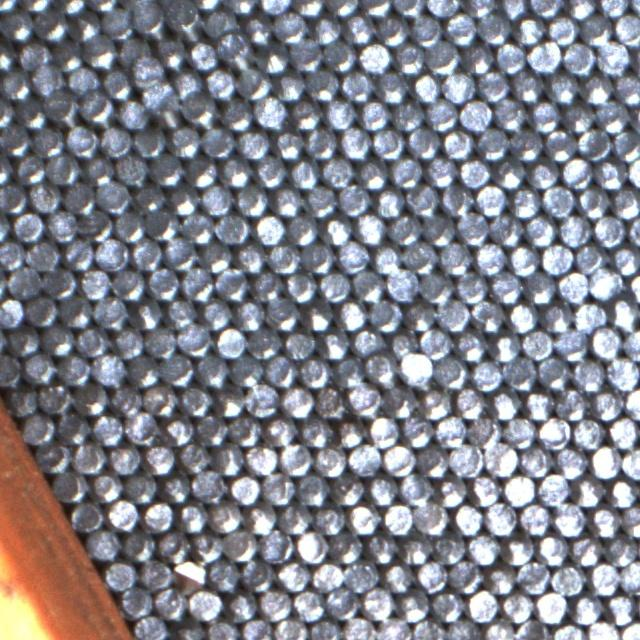tool: (325, 585, 360, 620), (200, 124, 235, 158), (415, 499, 449, 534), (453, 328, 488, 362), (264, 352, 298, 387), (125, 410, 160, 444), (110, 382, 144, 417), (343, 558, 378, 592), (91, 350, 125, 385), (56, 409, 90, 444), (484, 501, 518, 535), (518, 501, 552, 535), (75, 323, 109, 357), (304, 125, 338, 159), (126, 353, 160, 387), (362, 586, 396, 620), (406, 125, 440, 159), (106, 497, 140, 531), (537, 356, 571, 390), (150, 152, 184, 186), (34, 6, 68, 40), (329, 530, 363, 564), (178, 382, 212, 416), (330, 472, 364, 506), (382, 558, 416, 592), (537, 472, 571, 506), (281, 384, 315, 418), (228, 412, 262, 446), (24, 293, 58, 327), (437, 297, 471, 331), (224, 528, 258, 562), (431, 588, 465, 622), (229, 354, 263, 388), (258, 528, 292, 562), (143, 381, 177, 415), (74, 381, 108, 415), (571, 357, 605, 391), (0, 8, 34, 42), (244, 381, 278, 415), (444, 11, 478, 45), (144, 324, 178, 358), (192, 468, 226, 502), (58, 293, 92, 327), (484, 442, 518, 476), (241, 558, 275, 592), (603, 533, 637, 567), (93, 294, 127, 328), (52, 467, 86, 501), (97, 178, 131, 212), (448, 558, 482, 592), (385, 384, 419, 418), (296, 472, 330, 506), (80, 208, 114, 242), (168, 2, 202, 36), (419, 270, 454, 303), (295, 528, 328, 563), (182, 266, 215, 301), (214, 324, 247, 358), (278, 502, 312, 535), (553, 502, 586, 536), (416, 558, 449, 592), (339, 125, 372, 159), (237, 126, 270, 160), (228, 470, 261, 504), (490, 270, 523, 304), (554, 445, 587, 479), (65, 122, 98, 156), (57, 351, 90, 385), (292, 587, 325, 621), (441, 182, 474, 216), (390, 154, 423, 188), (365, 530, 398, 564), (391, 97, 424, 131), (455, 270, 488, 304), (418, 325, 452, 358), (520, 444, 553, 478), (6, 322, 39, 356), (235, 182, 269, 215), (365, 472, 398, 506), (468, 472, 501, 506), (545, 70, 578, 104), (89, 469, 123, 502), (433, 530, 466, 564), (262, 470, 295, 504), (458, 155, 492, 188), (38, 380, 72, 413), (254, 154, 288, 187), (435, 355, 468, 389), (314, 442, 347, 476), (595, 41, 629, 74), (562, 41, 596, 74), (263, 414, 297, 447), (164, 234, 197, 268), (200, 182, 234, 215), (90, 412, 124, 445), (527, 39, 561, 72), (570, 533, 603, 567), (356, 156, 389, 190), (607, 296, 640, 330), (475, 126, 508, 160), (100, 66, 133, 100), (167, 123, 200, 157), (457, 210, 490, 244), (198, 296, 232, 329), (400, 351, 433, 385), (556, 387, 590, 420), (439, 240, 472, 274), (159, 470, 192, 504), (502, 356, 536, 389), (112, 266, 146, 299), (250, 268, 283, 302), (535, 589, 569, 622), (606, 415, 640, 448), (218, 97, 252, 130), (375, 12, 408, 46), (321, 154, 354, 188), (417, 442, 450, 476), (219, 154, 252, 188), (400, 414, 434, 447), (552, 561, 585, 595), (347, 501, 380, 535), (280, 441, 313, 475), (450, 442, 483, 476), (46, 91, 79, 125), (107, 440, 140, 474), (71, 499, 105, 532), (204, 7, 238, 40), (382, 442, 416, 475), (72, 440, 106, 473), (472, 300, 505, 334), (348, 382, 381, 416), (45, 208, 78, 242), (409, 12, 442, 46), (44, 264, 77, 298), (21, 410, 54, 444), (196, 352, 228, 387), (382, 501, 415, 534), (340, 68, 373, 101), (442, 69, 475, 102), (23, 350, 56, 383), (579, 71, 612, 104), (338, 182, 371, 215), (555, 327, 588, 360), (283, 326, 316, 359), (259, 586, 292, 619), (255, 95, 288, 128), (266, 296, 299, 329), (358, 41, 391, 74), (477, 68, 510, 101), (606, 357, 639, 390), (216, 210, 249, 243), (115, 152, 148, 185), (368, 297, 401, 330), (179, 322, 212, 355), (311, 558, 344, 591), (140, 499, 173, 532), (14, 95, 47, 128), (590, 387, 623, 420), (467, 531, 500, 564), (502, 472, 535, 505), (467, 413, 500, 446), (175, 499, 208, 532), (536, 532, 569, 565), (313, 502, 346, 535), (392, 41, 425, 74), (238, 67, 271, 100), (29, 179, 62, 212), (406, 182, 439, 215), (365, 352, 398, 385), (37, 438, 70, 471), (306, 67, 339, 100), (81, 91, 114, 124), (403, 299, 436, 332), (388, 212, 421, 245), (593, 213, 626, 246), (155, 586, 188, 619), (521, 327, 554, 360), (182, 210, 215, 243), (167, 183, 200, 216), (103, 558, 136, 591), (573, 299, 606, 332), (185, 155, 218, 188), (13, 151, 46, 184), (78, 266, 111, 299), (133, 181, 166, 214), (331, 356, 364, 389), (47, 151, 80, 184), (122, 528, 155, 561), (212, 385, 245, 418), (404, 240, 437, 273), (386, 267, 419, 300), (191, 528, 224, 561), (501, 533, 534, 566), (342, 11, 375, 44), (502, 414, 535, 447), (558, 213, 591, 246), (8, 263, 41, 296), (397, 589, 430, 622), (323, 39, 356, 72), (500, 588, 533, 621), (546, 13, 579, 46), (298, 414, 331, 447), (399, 532, 432, 565), (142, 441, 175, 474), (95, 237, 128, 270), (12, 208, 44, 242), (162, 351, 194, 385), (208, 557, 240, 591), (290, 96, 322, 130), (210, 498, 242, 532), (88, 526, 120, 560), (318, 268, 350, 302), (589, 444, 621, 478), (40, 322, 74, 354), (572, 474, 604, 508), (138, 558, 172, 590), (62, 181, 96, 213), (374, 70, 408, 102), (484, 562, 518, 594), (594, 100, 628, 132), (418, 387, 452, 419), (136, 75, 170, 107), (146, 208, 180, 240), (121, 584, 153, 618), (188, 587, 220, 620), (466, 588, 498, 621), (528, 102, 561, 134), (442, 126, 474, 159), (588, 561, 620, 594), (508, 242, 540, 275), (494, 97, 526, 130), (112, 325, 144, 358), (590, 326, 622, 359), (506, 300, 538, 333), (133, 125, 166, 157), (518, 560, 551, 592), (31, 124, 64, 156), (561, 155, 594, 187), (351, 324, 384, 356), (495, 40, 527, 73), (116, 96, 149, 128), (277, 559, 310, 591), (164, 295, 196, 328), (233, 298, 266, 330), (304, 184, 337, 216), (434, 414, 467, 446), (462, 41, 494, 74), (124, 470, 157, 502), (62, 237, 94, 270), (589, 266, 621, 299), (354, 211, 386, 244), (204, 66, 237, 98), (287, 212, 319, 245), (254, 212, 286, 245), (606, 476, 639, 508), (268, 241, 300, 274), (285, 269, 317, 302), (510, 128, 542, 161), (102, 7, 135, 39), (156, 529, 188, 562), (216, 268, 249, 300), (184, 92, 216, 125), (290, 38, 322, 71), (436, 474, 468, 507), (324, 97, 356, 130), (422, 213, 455, 245), (27, 238, 60, 270), (426, 41, 458, 74), (224, 588, 257, 620), (425, 98, 457, 131), (470, 357, 502, 390), (491, 213, 524, 245), (274, 10, 306, 43), (178, 439, 210, 472), (134, 3, 166, 36), (131, 237, 163, 270), (474, 182, 506, 215), (298, 355, 330, 388), (580, 13, 612, 46), (162, 414, 195, 446), (537, 416, 570, 448), (270, 184, 302, 217), (372, 126, 404, 159), (132, 298, 165, 330), (579, 130, 612, 162), (543, 129, 576, 161), (576, 185, 608, 218), (523, 271, 556, 303), (348, 442, 380, 475), (301, 240, 333, 273), (211, 442, 244, 474), (200, 241, 233, 273), (156, 34, 188, 67), (473, 242, 506, 274), (245, 502, 278, 534), (248, 326, 280, 359), (309, 12, 342, 44), (400, 473, 433, 505), (242, 12, 274, 45), (244, 441, 277, 473), (7, 383, 39, 416), (542, 184, 574, 216), (100, 124, 132, 156), (557, 270, 589, 302), (460, 98, 492, 130), (289, 156, 321, 188), (314, 386, 346, 418), (358, 98, 390, 130), (451, 502, 483, 534), (540, 300, 572, 332), (366, 414, 398, 446), (509, 185, 541, 217), (541, 241, 573, 273), (588, 505, 620, 537), (454, 385, 486, 417), (488, 331, 520, 363), (82, 153, 114, 185), (352, 268, 384, 300), (301, 298, 333, 330), (114, 210, 146, 242), (410, 71, 442, 103), (488, 387, 520, 419), (512, 70, 544, 102), (562, 101, 594, 133), (195, 412, 227, 444), (84, 34, 116, 66), (494, 157, 526, 189), (522, 388, 554, 420), (527, 156, 559, 188), (570, 592, 602, 624), (604, 592, 636, 624), (524, 214, 556, 246), (572, 416, 604, 448), (258, 42, 290, 74), (147, 266, 179, 298), (424, 154, 456, 186), (370, 241, 402, 273), (234, 240, 266, 272), (478, 12, 510, 44), (336, 240, 368, 272), (174, 558, 206, 590), (115, 34, 147, 66), (372, 186, 404, 218), (576, 242, 608, 274), (67, 63, 99, 95), (33, 64, 65, 96), (52, 39, 84, 71), (272, 128, 304, 160), (273, 68, 305, 100), (332, 416, 365, 447), (16, 39, 49, 70), (224, 40, 257, 71), (336, 298, 367, 330), (0, 68, 31, 100), (319, 327, 350, 359), (152, 98, 184, 129), (321, 214, 353, 245), (514, 14, 546, 45), (386, 330, 418, 361), (70, 10, 102, 41), (0, 122, 30, 155), (610, 243, 640, 276), (188, 38, 219, 69), (170, 68, 201, 99), (610, 186, 640, 218), (594, 158, 626, 188), (130, 54, 162, 84), (611, 130, 640, 162), (0, 180, 28, 213), (613, 12, 640, 46), (136, 612, 168, 640), (613, 71, 640, 104), (239, 615, 273, 640), (274, 615, 308, 640), (0, 238, 26, 270), (204, 616, 238, 640), (342, 616, 376, 640), (377, 616, 411, 640), (308, 616, 342, 640), (411, 616, 445, 640), (172, 615, 204, 640), (0, 294, 23, 328), (446, 617, 479, 640), (483, 617, 516, 640), (516, 618, 550, 640), (619, 560, 640, 594), (0, 352, 21, 385), (620, 503, 640, 537), (586, 620, 619, 640), (552, 620, 584, 640), (621, 446, 640, 478), (564, 0, 596, 19), (464, 0, 497, 18), (498, 0, 530, 18), (623, 386, 640, 419), (623, 327, 640, 360), (530, 0, 562, 17), (427, 0, 461, 16), (0, 38, 17, 70), (392, 0, 425, 16), (325, 0, 358, 16), (597, 0, 629, 16), (359, 0, 392, 15), (292, 0, 324, 15), (0, 94, 14, 126), (259, 0, 291, 14), (54, 0, 86, 14), (626, 270, 640, 302), (224, 0, 256, 13), (0, 150, 12, 183)
